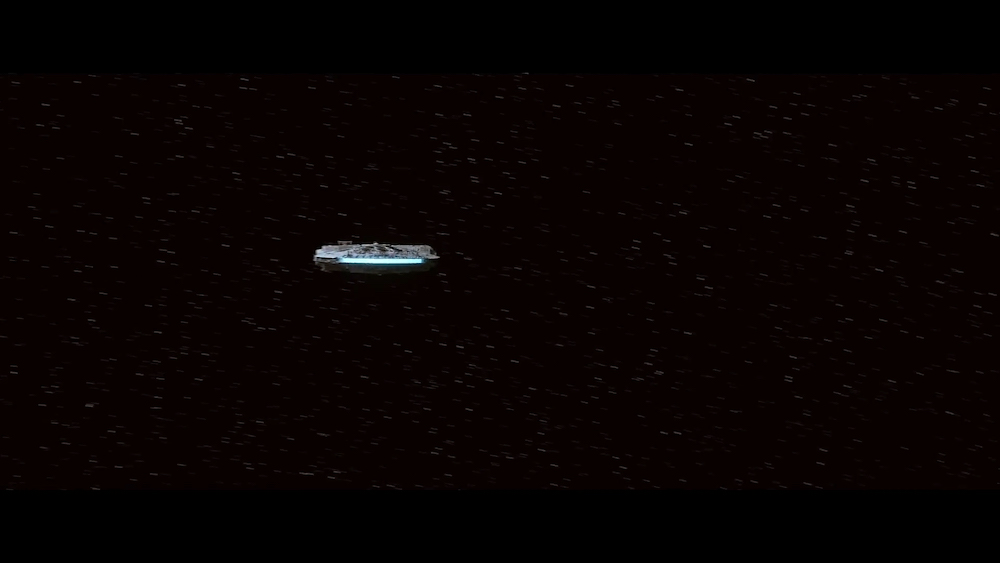Millennium Falcon: (312, 241, 443, 277)
